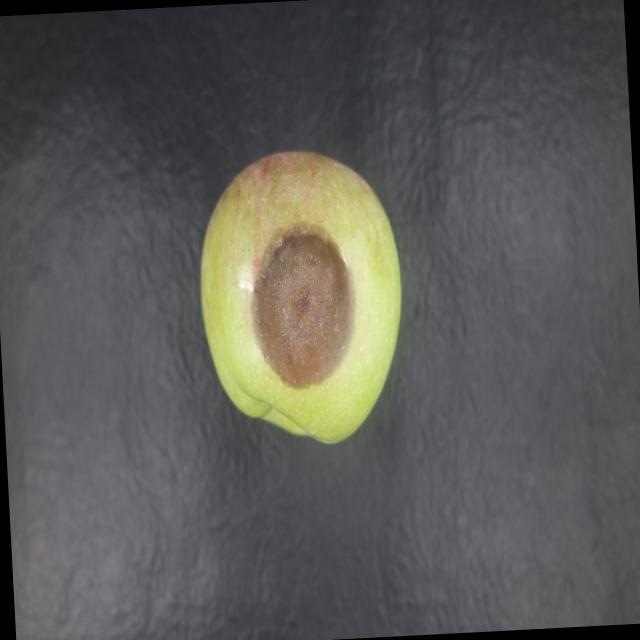rotten: (188, 136, 418, 463)
